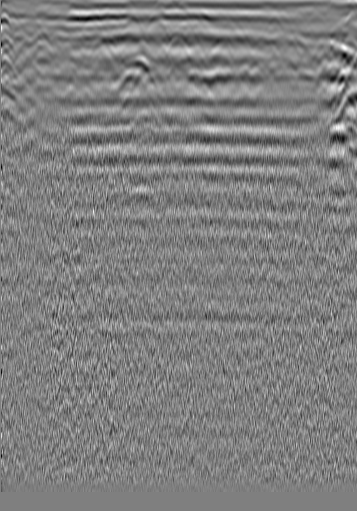가스: (115, 142, 151, 171)
상수: (301, 34, 328, 59)
오수: (25, 30, 59, 57)
우수: (163, 32, 194, 55)
